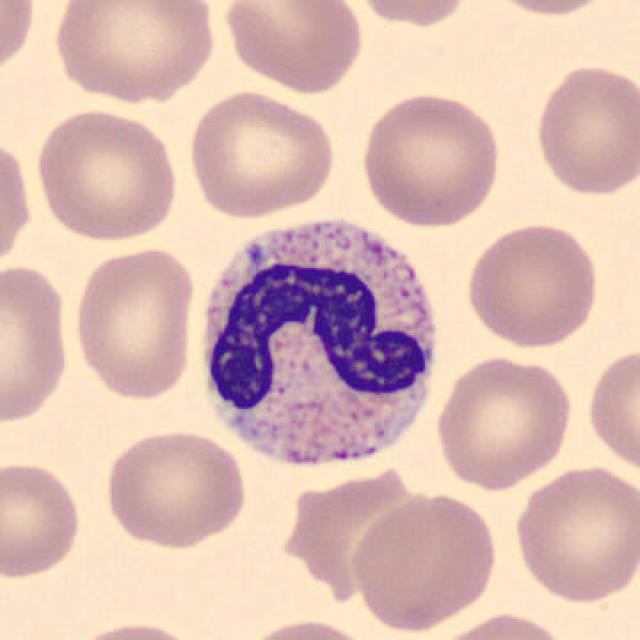Neutrophil: (187, 204, 448, 486)
RBC: (345, 486, 501, 634), (30, 104, 182, 245), (357, 88, 505, 229), (69, 242, 199, 402), (183, 86, 338, 220), (432, 353, 576, 492), (100, 425, 250, 550), (460, 218, 602, 350), (508, 462, 638, 606), (48, 0, 220, 106), (284, 471, 420, 596), (530, 60, 638, 199), (219, 0, 368, 97), (0, 259, 73, 430), (0, 456, 85, 581), (583, 342, 638, 480), (0, 129, 36, 277), (427, 610, 574, 640), (234, 613, 380, 640), (345, 0, 476, 30), (0, 0, 39, 85), (66, 617, 204, 640), (477, 0, 622, 18)
